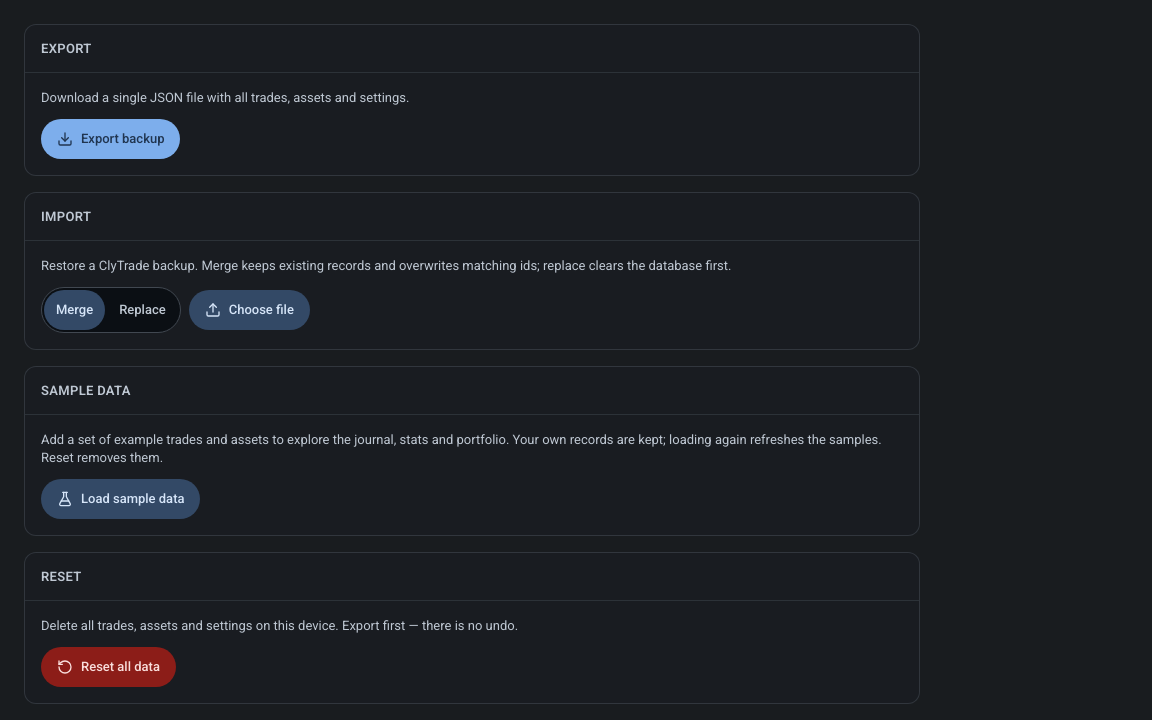
it: DataControlsPage › shows an error and closes the confirmation when the reset fails
Click the button "Reset all data" at (108, 667), box [41,647,176,687]
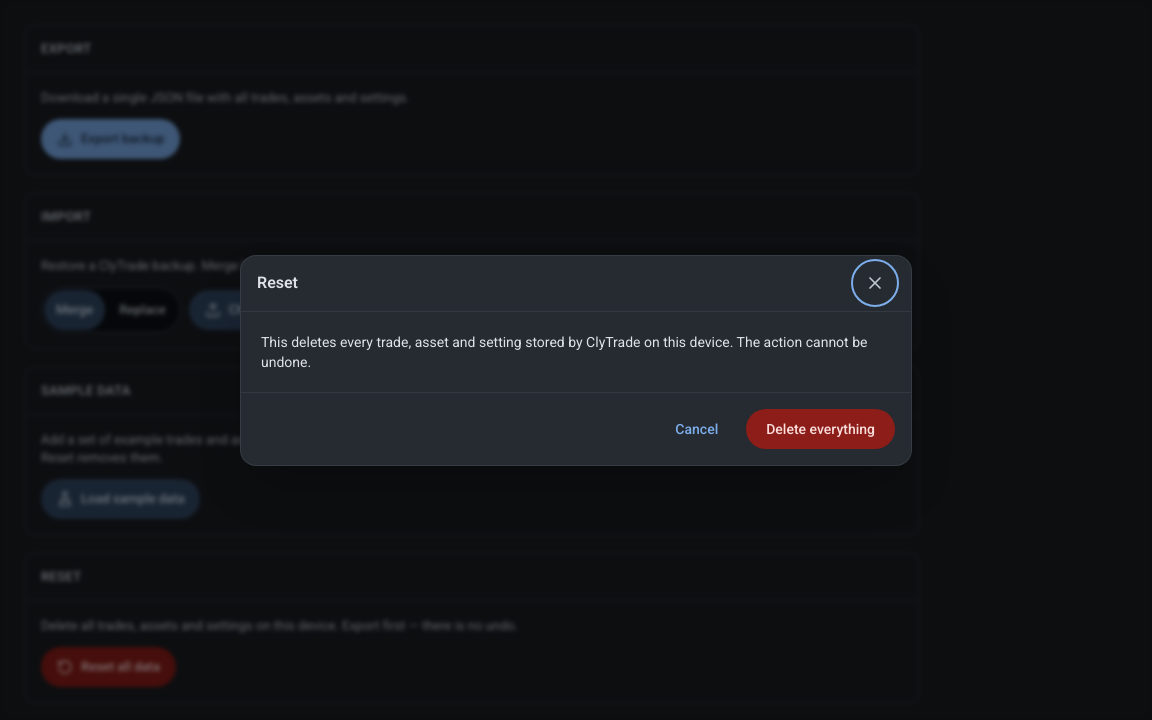
Click the button "Delete everything" at (821, 428), box [746,408,895,448]
(page scrolled)
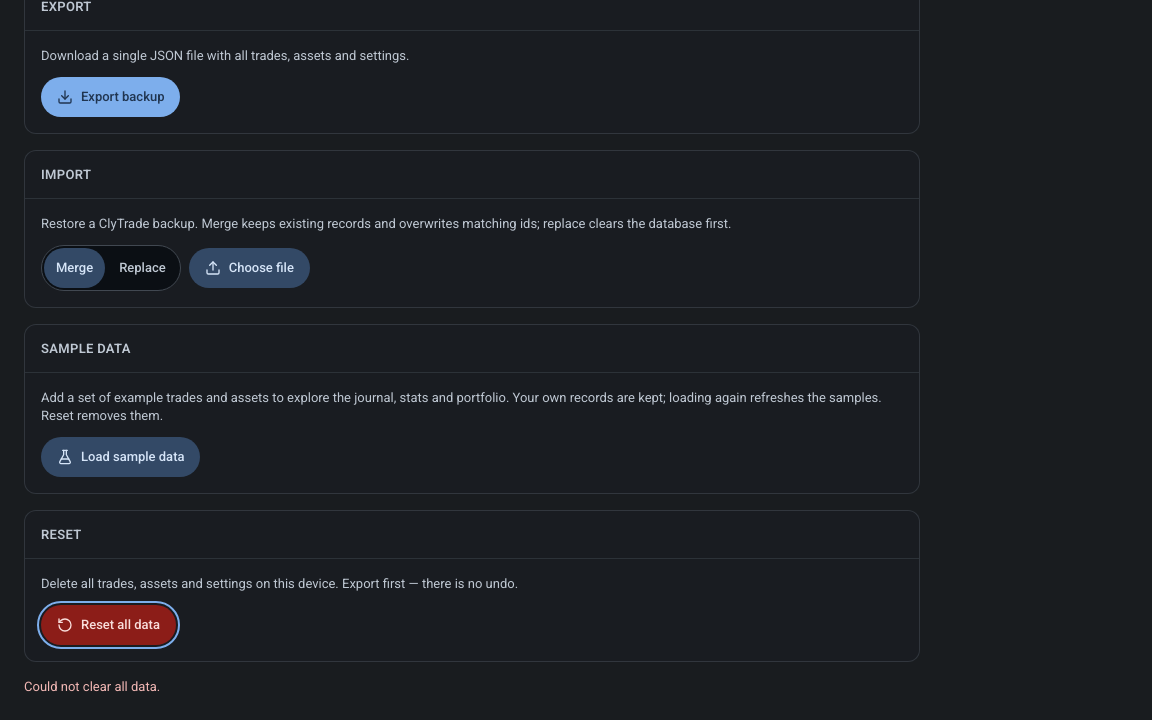
Expected: the text "Could not clear all data." is shown, [24,679,160,694]
Expected: the button "Delete everything" is gone
